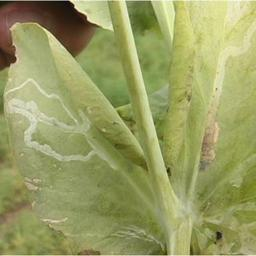liriomyza: (4, 77, 122, 172)
